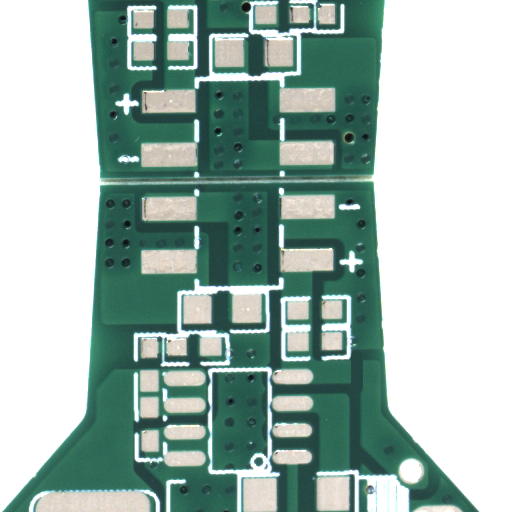Open_circuit: (357, 374, 370, 405)
